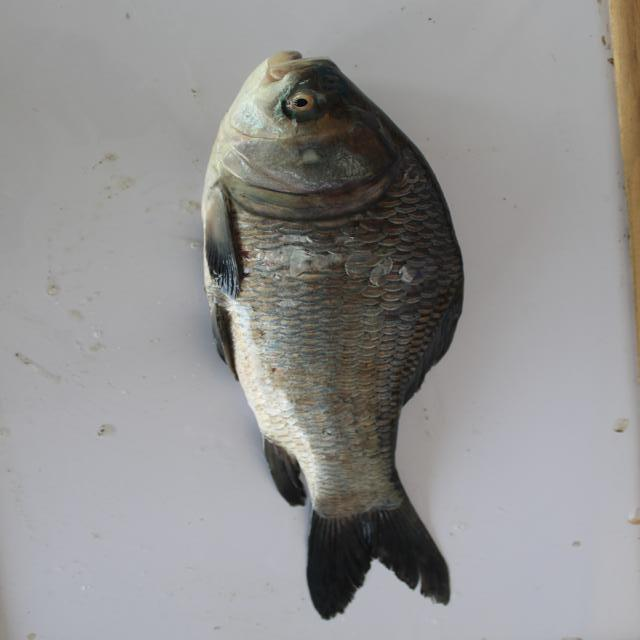Catla: (212, 37, 460, 615)
